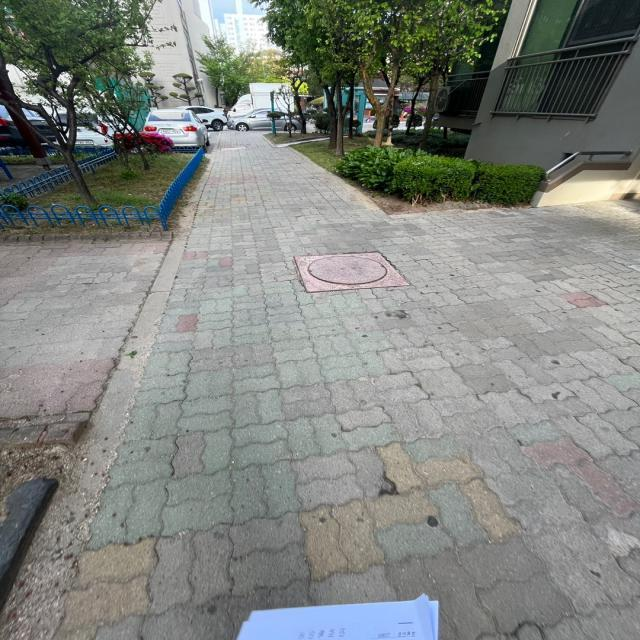Sewer Cover: (280, 246, 418, 307)
